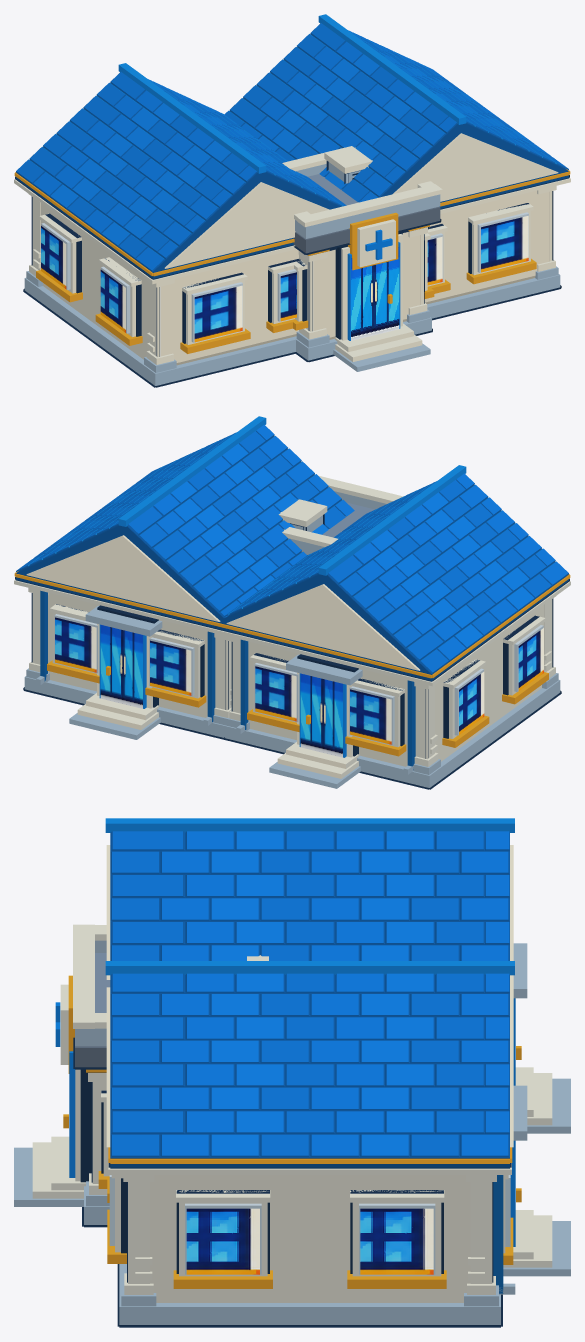
3 views of the same model, one above another, from view 1: azimuth 30°, elevation 25°; view 2: azimuth 150°, elevation 25°; view 3: azimuth 270°, elevation 25° (orthographic). The views are drawn at different scales.
Visible parts, largest first — view 1: B13 临时照护中心; view 2: B13 临时照护中心; view 3: B13 临时照护中心.
Boxes of the visible parts, bbox=[...] form: B13 临时照护中心: bbox=[14, 14, 570, 387]; B13 临时照护中心: bbox=[14, 416, 570, 789]; B13 临时照护中心: bbox=[14, 818, 570, 1327].
Bounding box in the file's own units: 8.68 × 3.94 × 6.85.
Materials: 2 (1 with a texture image).
